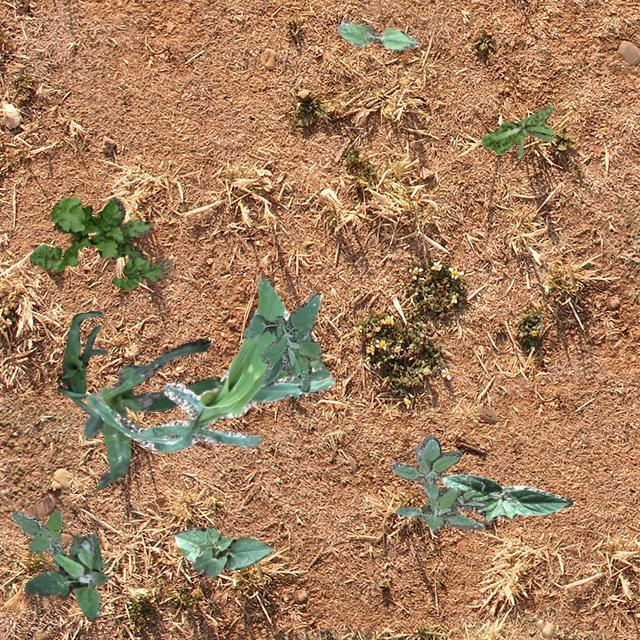crop: (86, 278, 334, 450), (82, 338, 220, 488), (438, 474, 572, 522), (56, 309, 106, 416), (172, 526, 272, 576), (337, 18, 418, 50)
weed: (28, 195, 172, 288), (389, 434, 484, 530), (240, 292, 320, 390), (22, 532, 108, 618), (481, 104, 554, 158), (9, 508, 66, 558)
